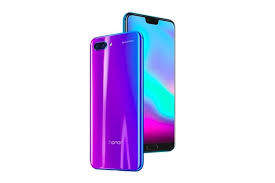huawei: (88, 31, 144, 174)
